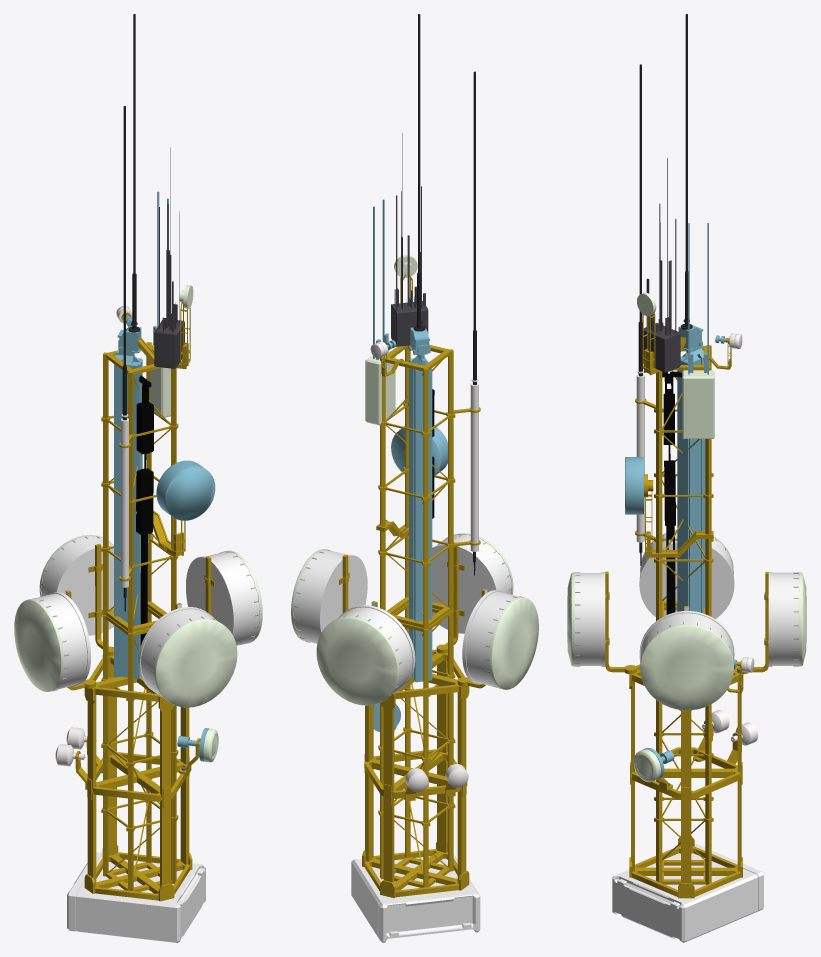
File: Radio_Anten_01.glb
3 renders of one model, left to right at view 1: azimuth 30°, elevation 25°; view 2: azimuth 150°, elevation 25°; view 3: azimuth 270°, elevation 25°, orthographic.
Visible parts, largest first — view 1: 02 - Structure.001, 02 - Big Dish.002, 02 - Basement Box, 02 - Structure.002, 02 - Big Dish.004, 02 - Structure, 02 - Structure.004, 02 - Big Dish.003, 02 - Big Dish.001, 02 - Medium Dish, 02 - Structure.003, 02 - Antenna (+6 smaller); view 2: 02 - Structure.001, 02 - Structure, 02 - Big Dish.001, 02 - Big Dish.004, 02 - Structure.004, 02 - Basement Box, 02 - Structure.002, 02 - Big Dish.003, 02 - Big Dish.002, 02 - Antenna, 02 - Main Receiver, 02 - Top Receiver (+4 smaller); view 3: 02 - Structure.001, 02 - Big Dish.003, 02 - Basement Box, 02 - Structure.004, 02 - Structure, 02 - Big Dish.002, 02 - Big Dish.001, 02 - Structure.002, 02 - Main Receiver, 02 - Big Dish.004, 02 - Top Receiver, 02 - Structure.003 (+7 smaller).
Boxes of the visible parts, left/top/right/bottom form: 02 - Structure.001: left=84, top=655, right=192, bottom=901; 02 - Big Dish.002: left=138, top=603, right=237, bottom=707; 02 - Basement Box: left=67, top=852, right=205, bottom=942; 02 - Structure.002: left=101, top=607, right=178, bottom=891; 02 - Big Dish.004: left=14, top=590, right=95, bottom=691; 02 - Structure: left=101, top=342, right=178, bottom=633; 02 - Structure.004: left=114, top=326, right=142, bottom=679; 02 - Big Dish.003: left=186, top=550, right=262, bottom=645; 02 - Big Dish.001: left=39, top=535, right=113, bottom=655; 02 - Medium Dish: left=153, top=460, right=215, bottom=557; 02 - Structure.003: left=136, top=375, right=153, bottom=645; 02 - Antenna: left=119, top=106, right=133, bottom=611; 02 - Structure.001: left=362, top=649, right=469, bottom=898; 02 - Structure: left=378, top=344, right=455, bottom=629; 02 - Big Dish.001: left=316, top=601, right=415, bottom=705; 02 - Big Dish.004: left=457, top=588, right=538, bottom=689; 02 - Structure.004: left=409, top=327, right=432, bottom=682; 02 - Basement Box: left=351, top=854, right=480, bottom=942; 02 - Structure.002: left=378, top=603, right=455, bottom=887; 02 - Big Dish.003: left=291, top=549, right=367, bottom=643; 02 - Big Dish.002: left=432, top=533, right=513, bottom=653; 02 - Antenna: left=453, top=71, right=480, bottom=575; 02 - Main Receiver: left=365, top=199, right=395, bottom=425; 02 - Top Receiver: left=391, top=133, right=428, bottom=346; 02 - Structure.001: left=629, top=664, right=742, bottom=898; 02 - Big Dish.003: left=639, top=606, right=734, bottom=710; 02 - Basement Box: left=612, top=843, right=763, bottom=942; 02 - Structure.004: left=677, top=325, right=705, bottom=613; 02 - Structure: left=654, top=345, right=713, bottom=620; 02 - Big Dish.002: left=567, top=571, right=636, bottom=674; 02 - Big Dish.001: left=737, top=572, right=806, bottom=674; 02 - Structure.002: left=654, top=606, right=713, bottom=884; 02 - Main Receiver: left=682, top=223, right=714, bottom=438; 02 - Big Dish.004: left=639, top=529, right=734, bottom=619; 02 - Top Receiver: left=642, top=158, right=680, bottom=372; 02 - Structure.003: left=662, top=371, right=682, bottom=614.
Bounding box in the file's own units: 5.32 × 22 × 5.32.
